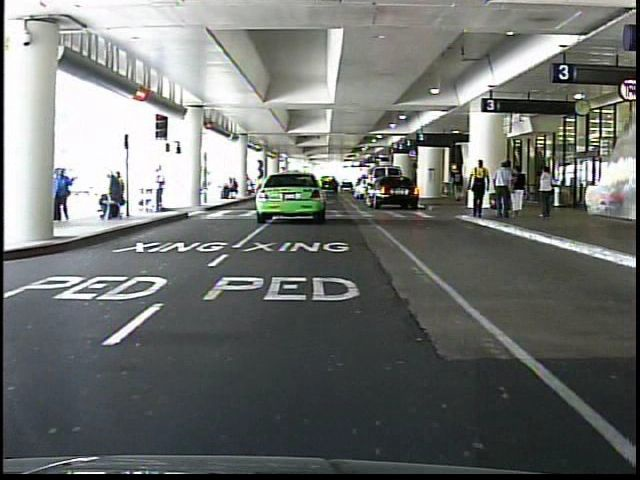person: (536, 162, 564, 228), (55, 164, 81, 226), (467, 157, 489, 225), (491, 160, 513, 221), (149, 164, 173, 219), (511, 161, 527, 218), (451, 165, 466, 204)
